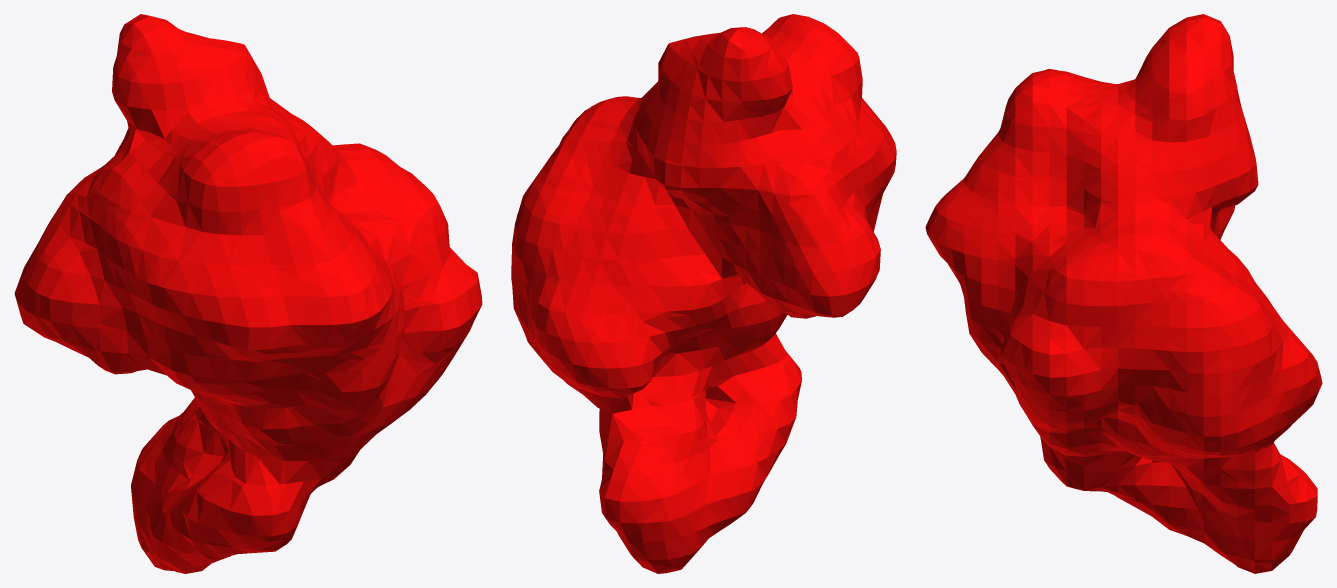
File: trmB_coarse.dae
3 views of the same model, side by side, from view 1: azimuth 30°, elevation 25°; view 2: azimuth 150°, elevation 25°; view 3: azimuth 270°, elevation 25° (orthographic). The views are drawn at different scales.
Visible parts, largest first — view 1: trmB; view 2: trmB; view 3: trmB.
Boxes of the visible parts, box(x1,y1,x2,y2) form: trmB: box(14, 14, 482, 573); trmB: box(511, 14, 896, 573); trmB: box(925, 14, 1322, 573).
Bounding box in the file's own units: 50.92 × 74.95 × 50.69.
